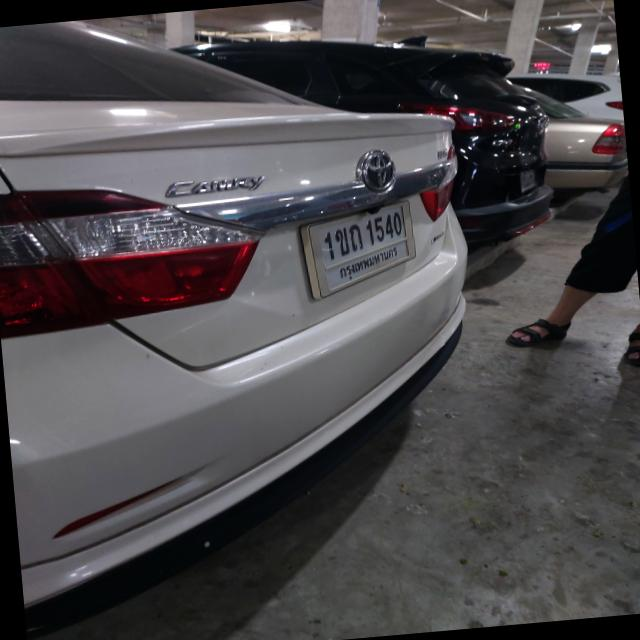license_plate: (317, 205, 411, 292)
